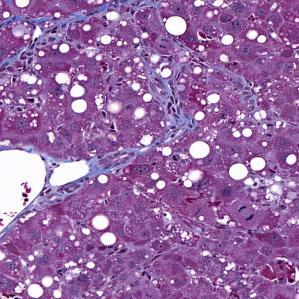fibrosis: (149, 78, 194, 133), (27, 13, 84, 51)
